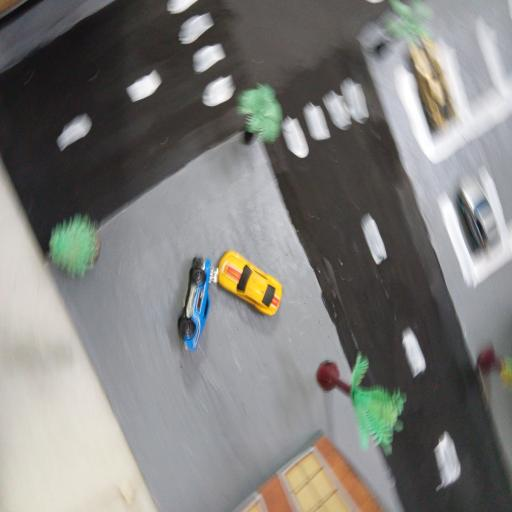car crash: (176, 252, 286, 350), (181, 255, 219, 352)
